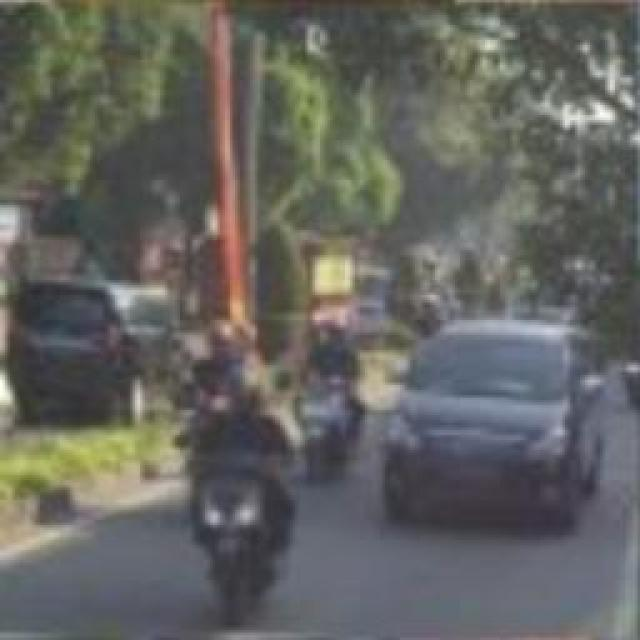car: (392, 326, 594, 520), (5, 257, 190, 440)
motorbike: (183, 348, 297, 630), (292, 322, 366, 486)
